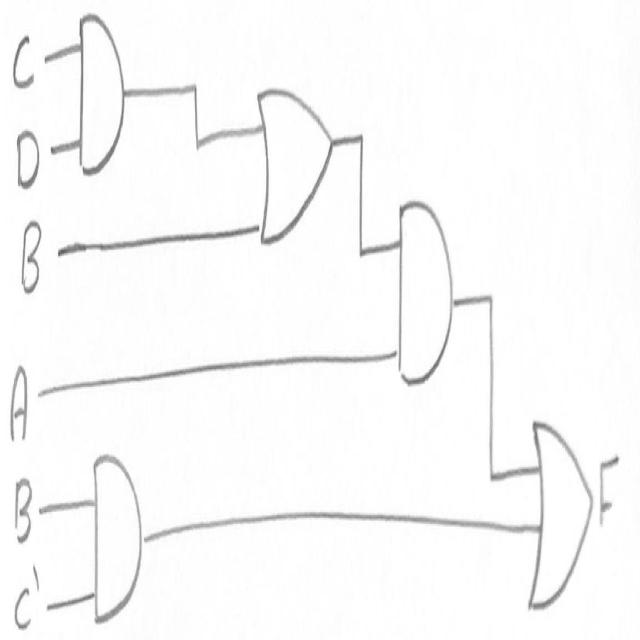AND: (393, 172, 465, 405), (82, 440, 146, 629), (73, 13, 132, 190)
OR: (250, 58, 340, 276), (516, 402, 596, 619)
